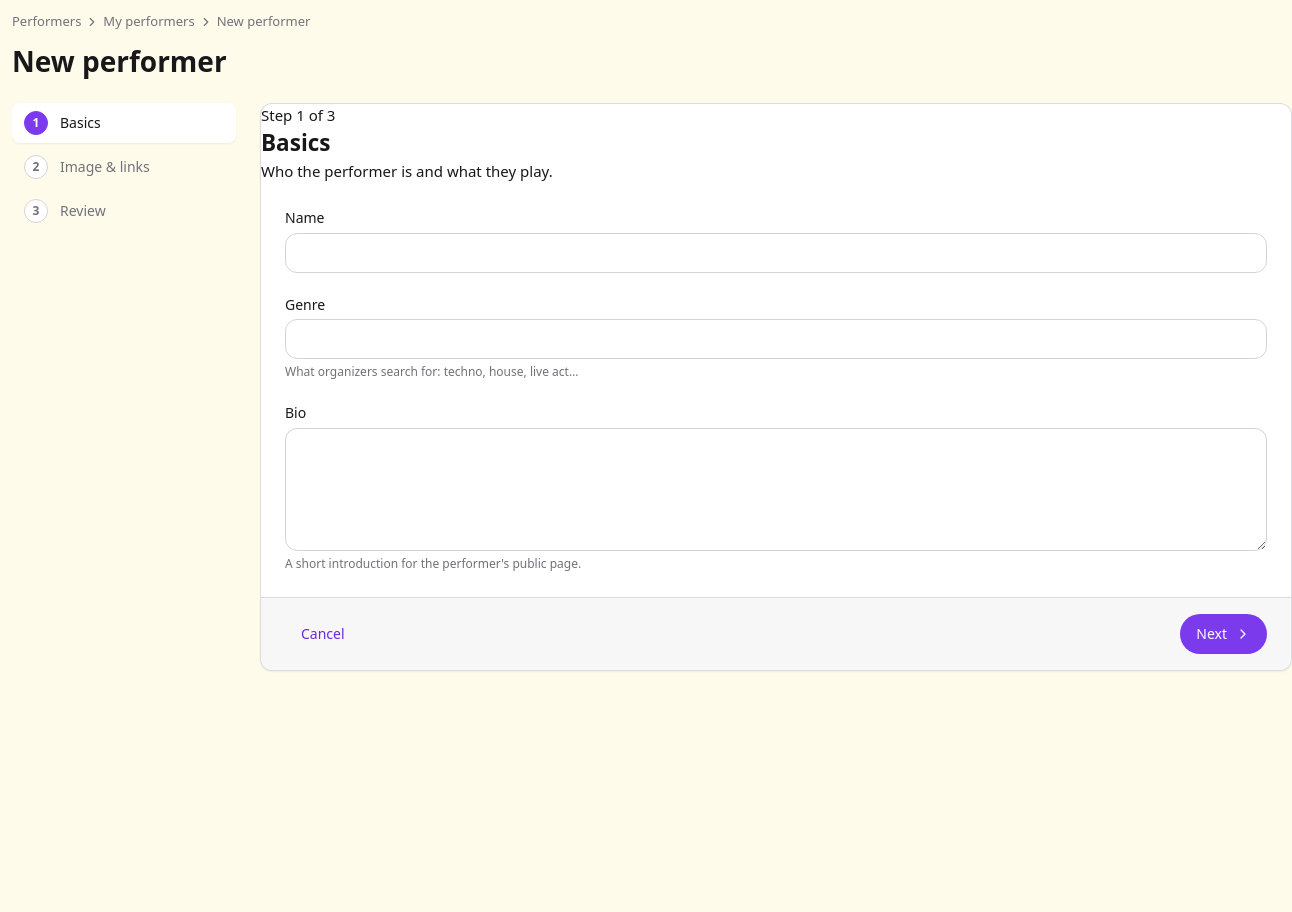
Scenario: NewPerformerPage › needs a name and a genre before the next step
Click the button "Next" at (1224, 634), box x1=1180 y1=614 x2=1267 y2=654
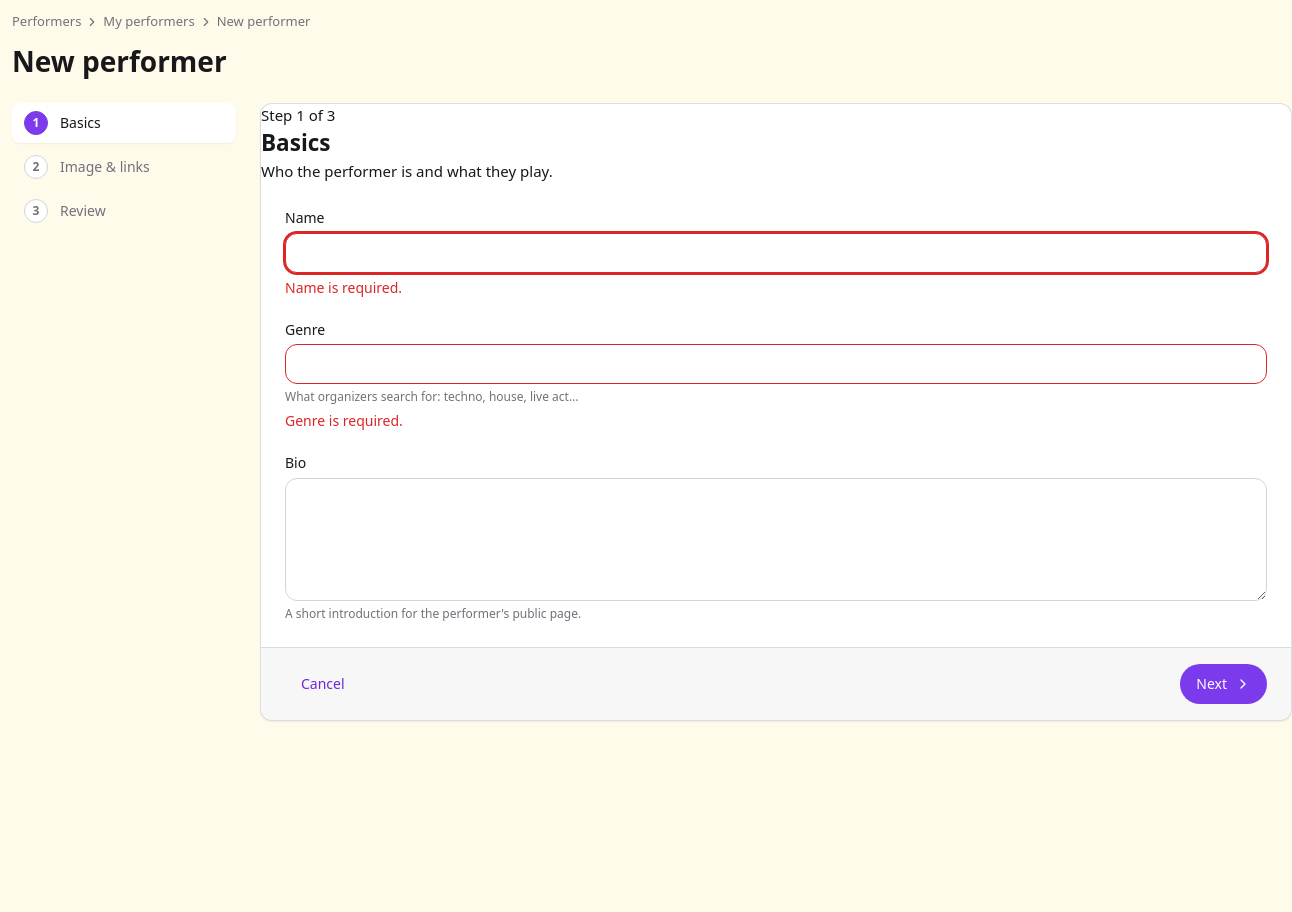
Result: the text "Name is required." is shown at x1=285 y1=278 x2=402 y2=297
Result: the text "Genre is required." is shown at x1=285 y1=411 x2=403 y2=430
